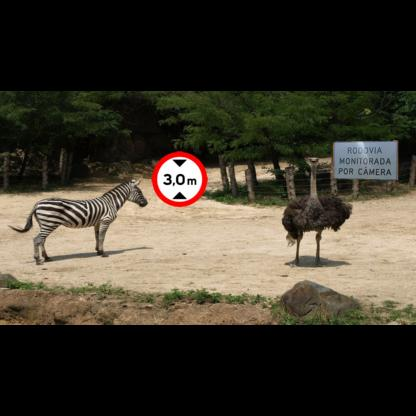I-E: (333, 140, 398, 181)
R-15: (152, 151, 207, 207)
